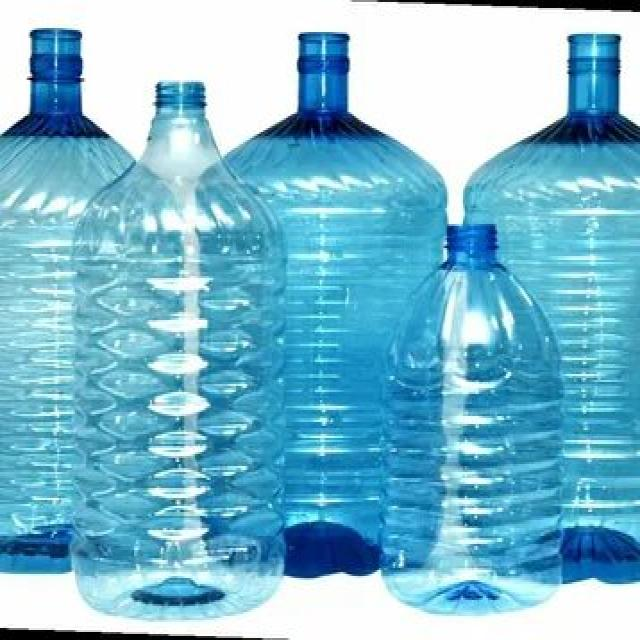blue: (73, 80, 285, 618), (381, 223, 562, 615)
